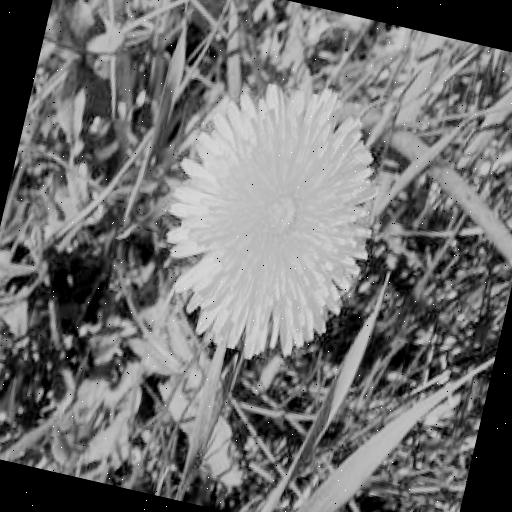dandelion: (147, 62, 396, 372)
